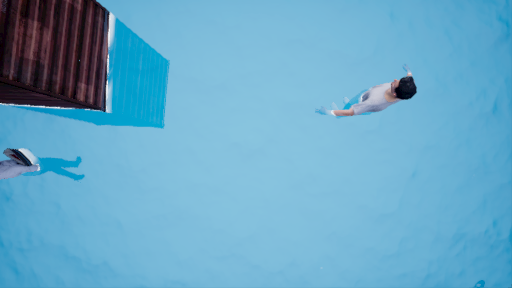person: (320, 63, 419, 127)
